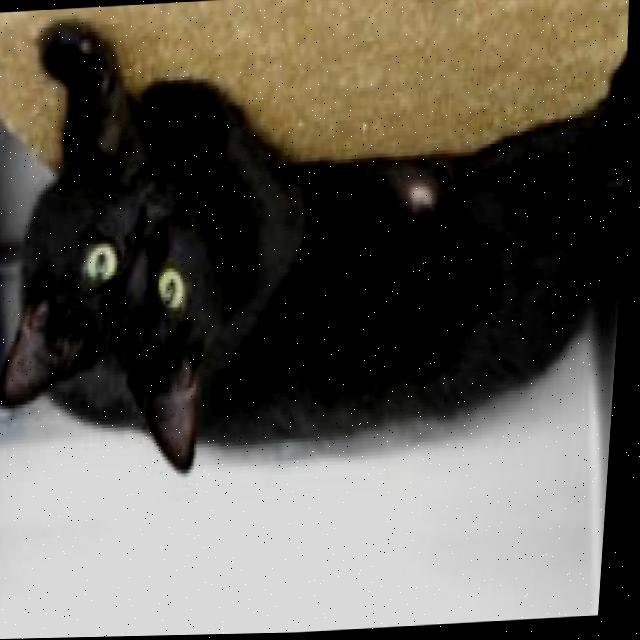Bombay: (0, 0, 640, 494)
